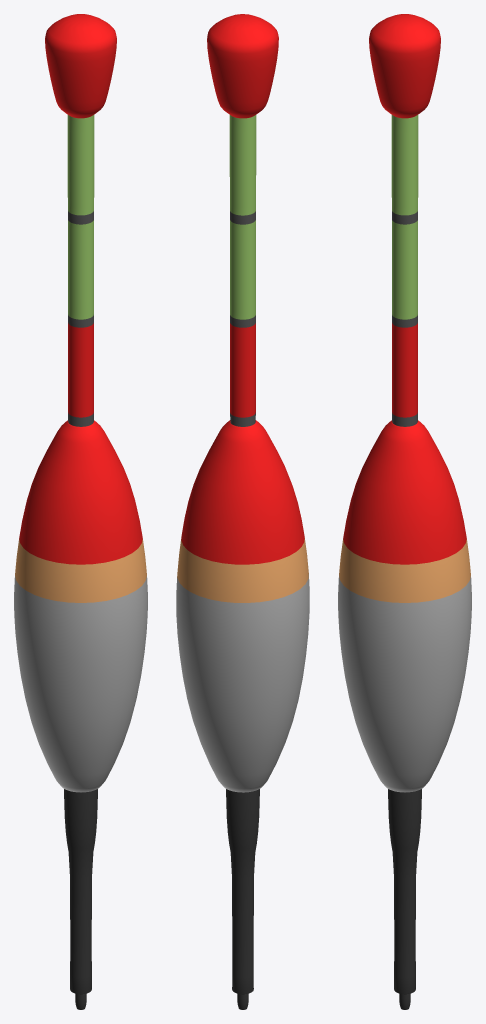
Rendered from float_06.fbx.
3 views of the same model, side by side, from view 1: azimuth 90°, elevation 25°; view 2: azimuth 150°, elevation 25°; view 3: azimuth 270°, elevation 25° (orthographic).
Parts seen in each view (by area): view 1: Float_06; view 2: Float_06; view 3: Float_06.
Part boxes in pixels (bbox=[...]): Float_06: bbox=[14, 14, 147, 1009]; Float_06: bbox=[176, 14, 309, 1009]; Float_06: bbox=[338, 14, 471, 1009].
Size of the model in its own units: 61.53 by 502 by 61.53.
